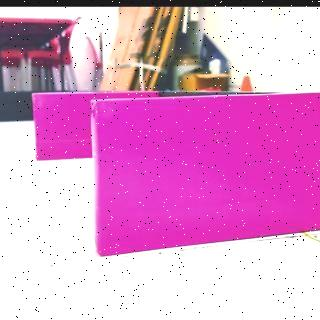xparking: (93, 100, 320, 247), (31, 91, 89, 162)
